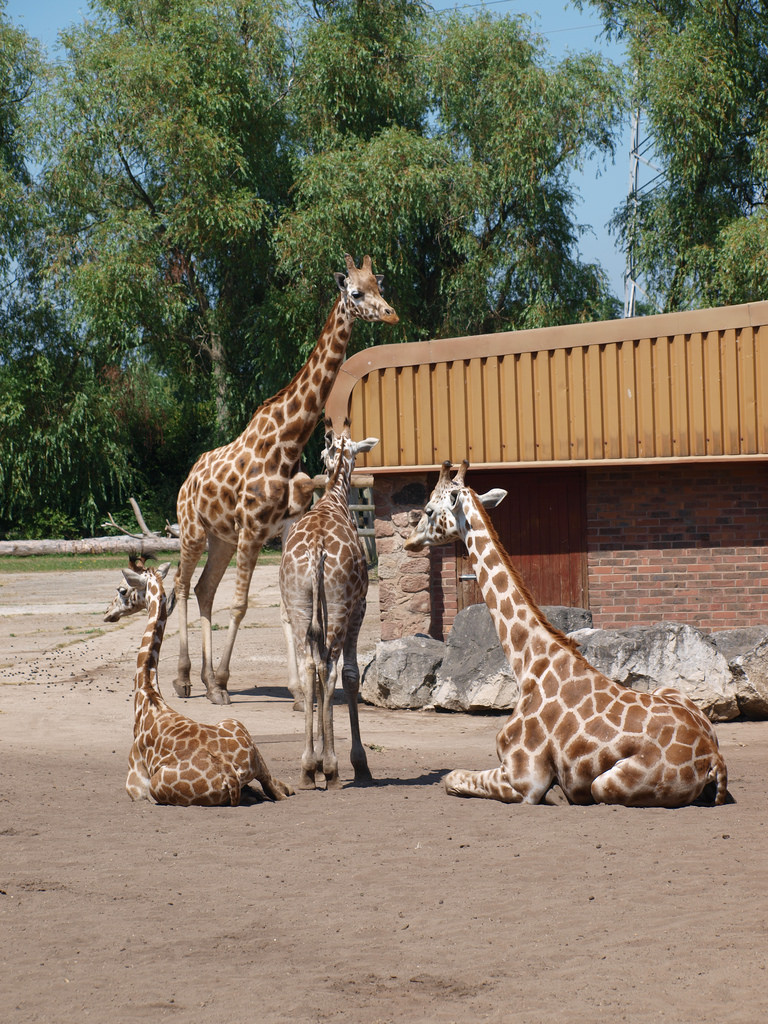giraffe: (408, 461, 762, 823), (128, 242, 383, 711), (72, 531, 287, 842), (278, 423, 403, 791)
